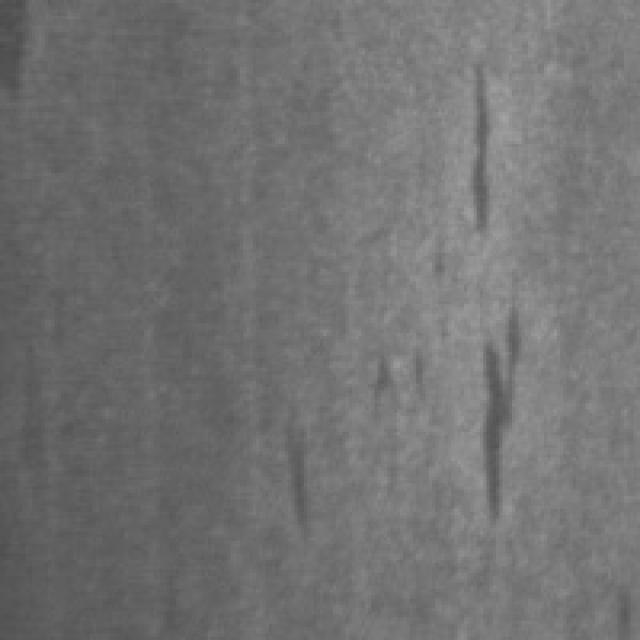inclusion: (483, 298, 531, 522), (464, 51, 506, 234), (272, 397, 323, 534), (372, 336, 438, 403)
